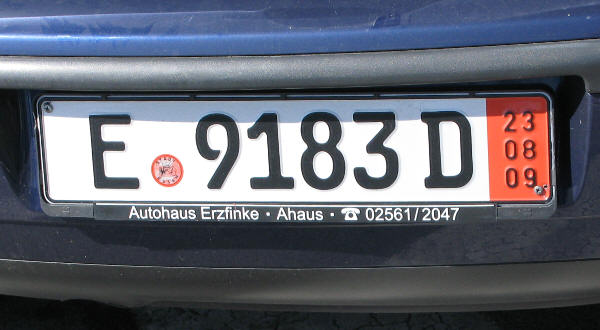license_plate: (36, 92, 551, 204)
